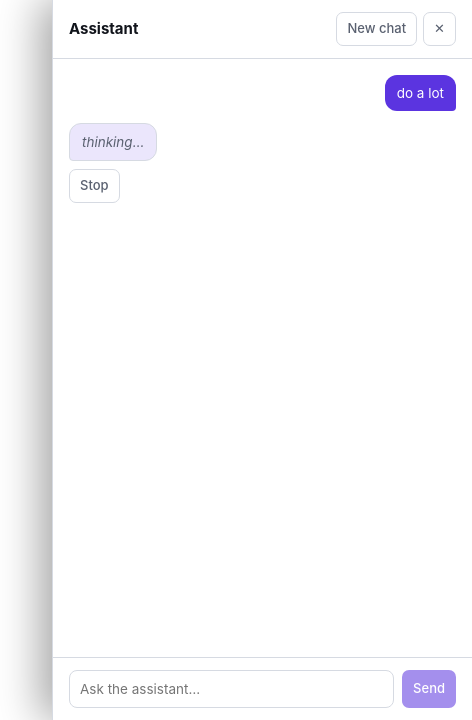
it: ChatPanel (component) › Stop aborts a running turn and shows it stopped
Click the button "Stop" at (94,186), box [69, 169, 120, 202]
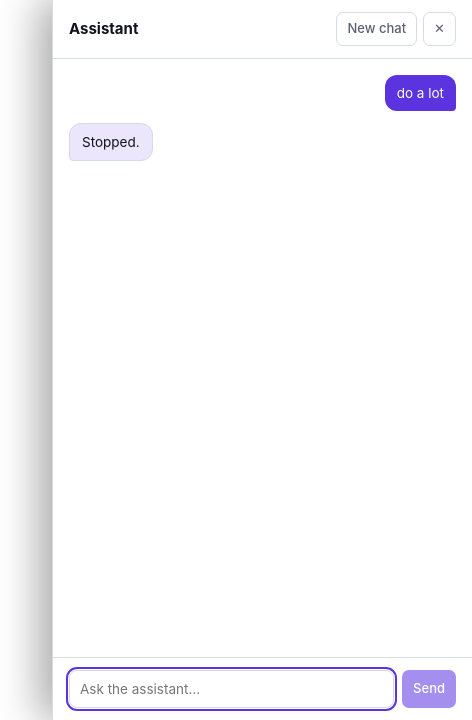
Expected: the text "Stopped." is shown, [69, 123, 153, 161]
